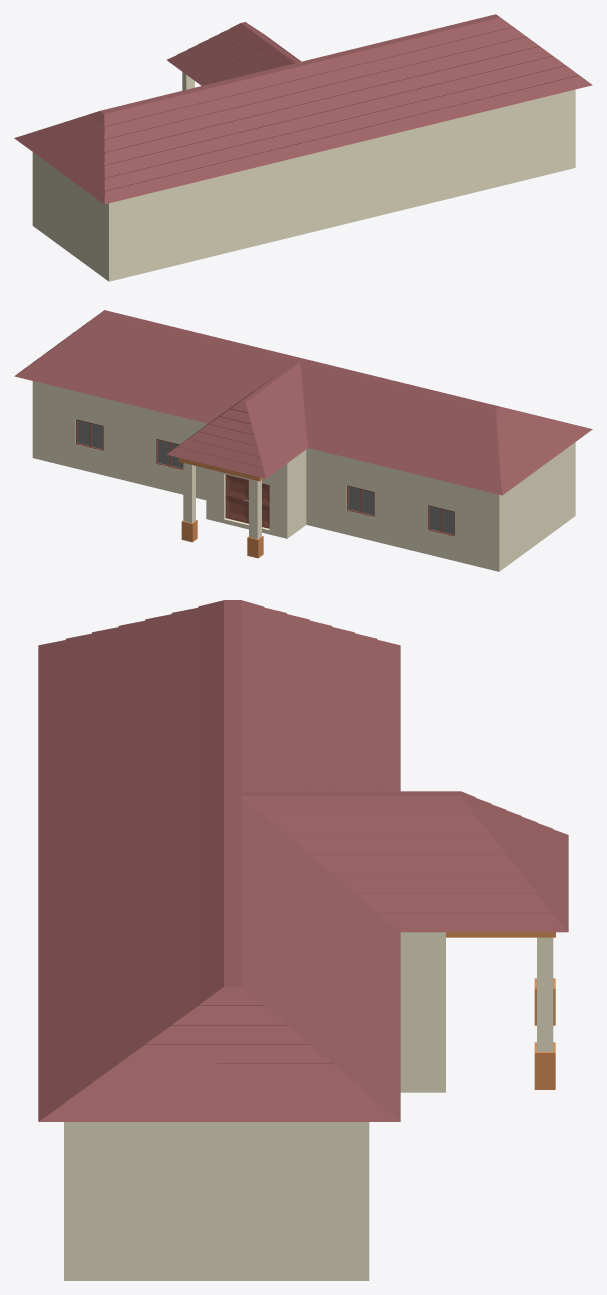
Rendered from kantorPolisi1.fbx.
The picture shows the model from 3 angles, top to bottom: view 1: azimuth 30°, elevation 25°; view 2: azimuth 150°, elevation 25°; view 3: azimuth 270°, elevation 25°; orthographic projection. The views are drawn at different scales.
Parts seen in each view (by area): view 1: Kantor1; view 2: Kantor1; view 3: Kantor1.
Boxes of the visible parts, left/top/right/bottom form: Kantor1: left=14, top=14, right=592, bottom=281; Kantor1: left=14, top=310, right=592, bottom=571; Kantor1: left=38, top=600, right=568, bottom=1280.
Bounding box in the file's own units: 2534 × 644 × 1191.
